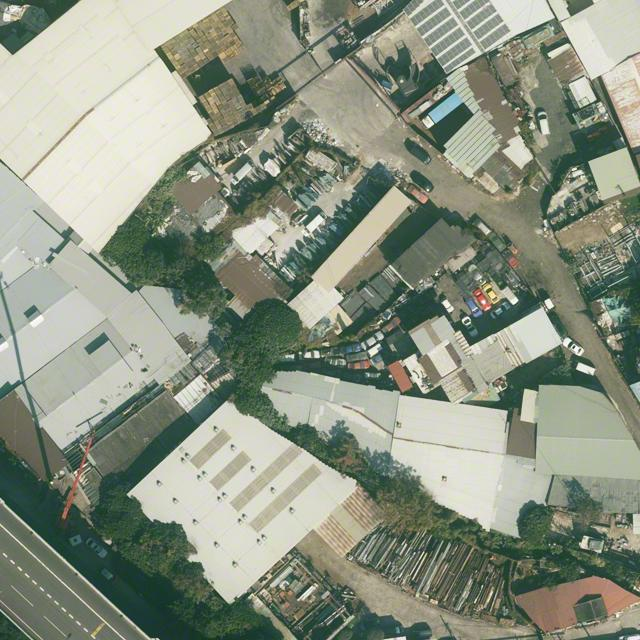panel: (417, 7, 476, 73), (466, 4, 510, 50), (404, 0, 444, 25), (452, 0, 489, 19)
